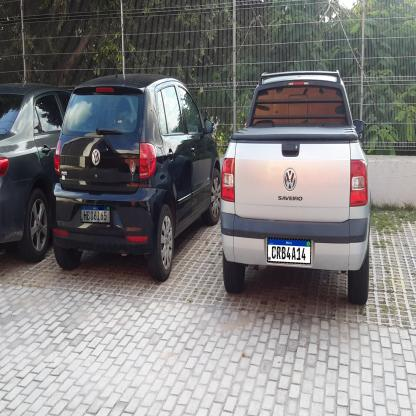PlacaM: (267, 237, 311, 264), (81, 205, 110, 223)
